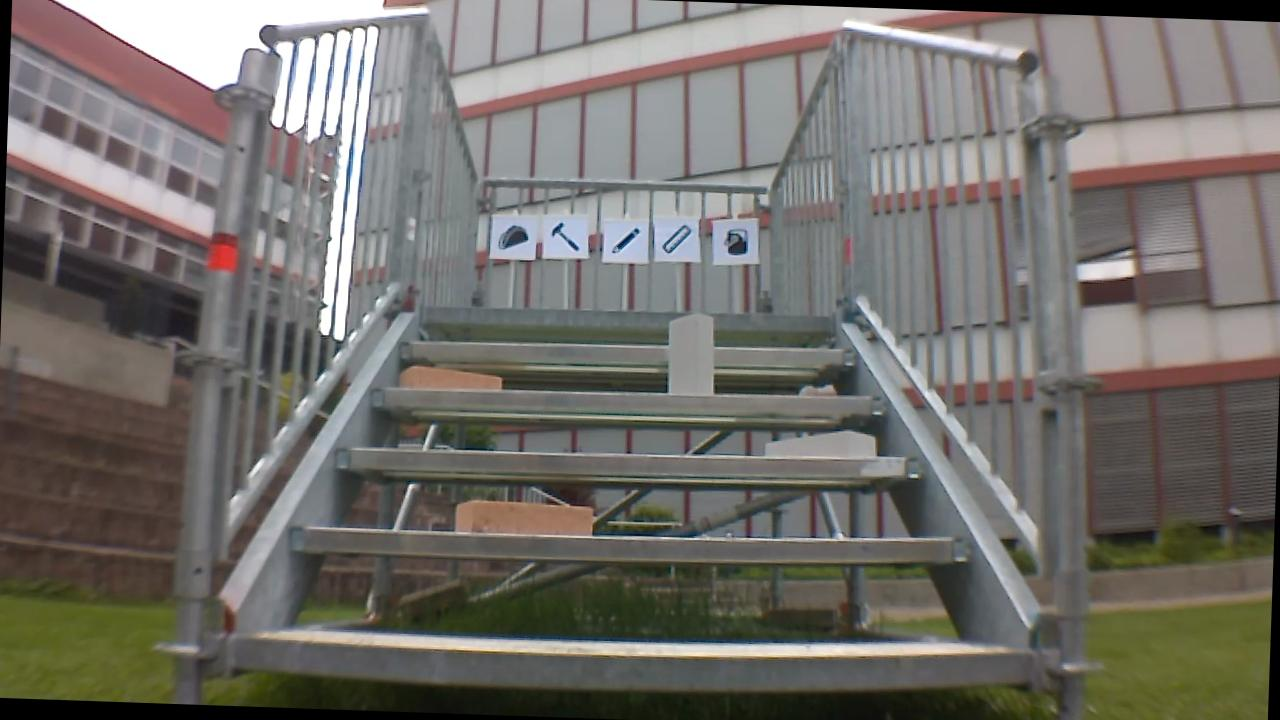brick: (455, 498, 591, 537), (666, 313, 715, 396), (766, 429, 875, 458), (400, 365, 501, 391)
bucket: (718, 221, 753, 260)
edge: (237, 625, 1031, 703), (289, 514, 972, 572), (337, 437, 924, 485), (369, 376, 884, 420), (400, 333, 855, 372), (423, 301, 835, 334)
hammer: (545, 217, 583, 254)
pencil: (607, 221, 643, 260)
ruler: (657, 218, 693, 256)
steps: (231, 290, 1052, 714)
taco: (493, 219, 532, 254)
